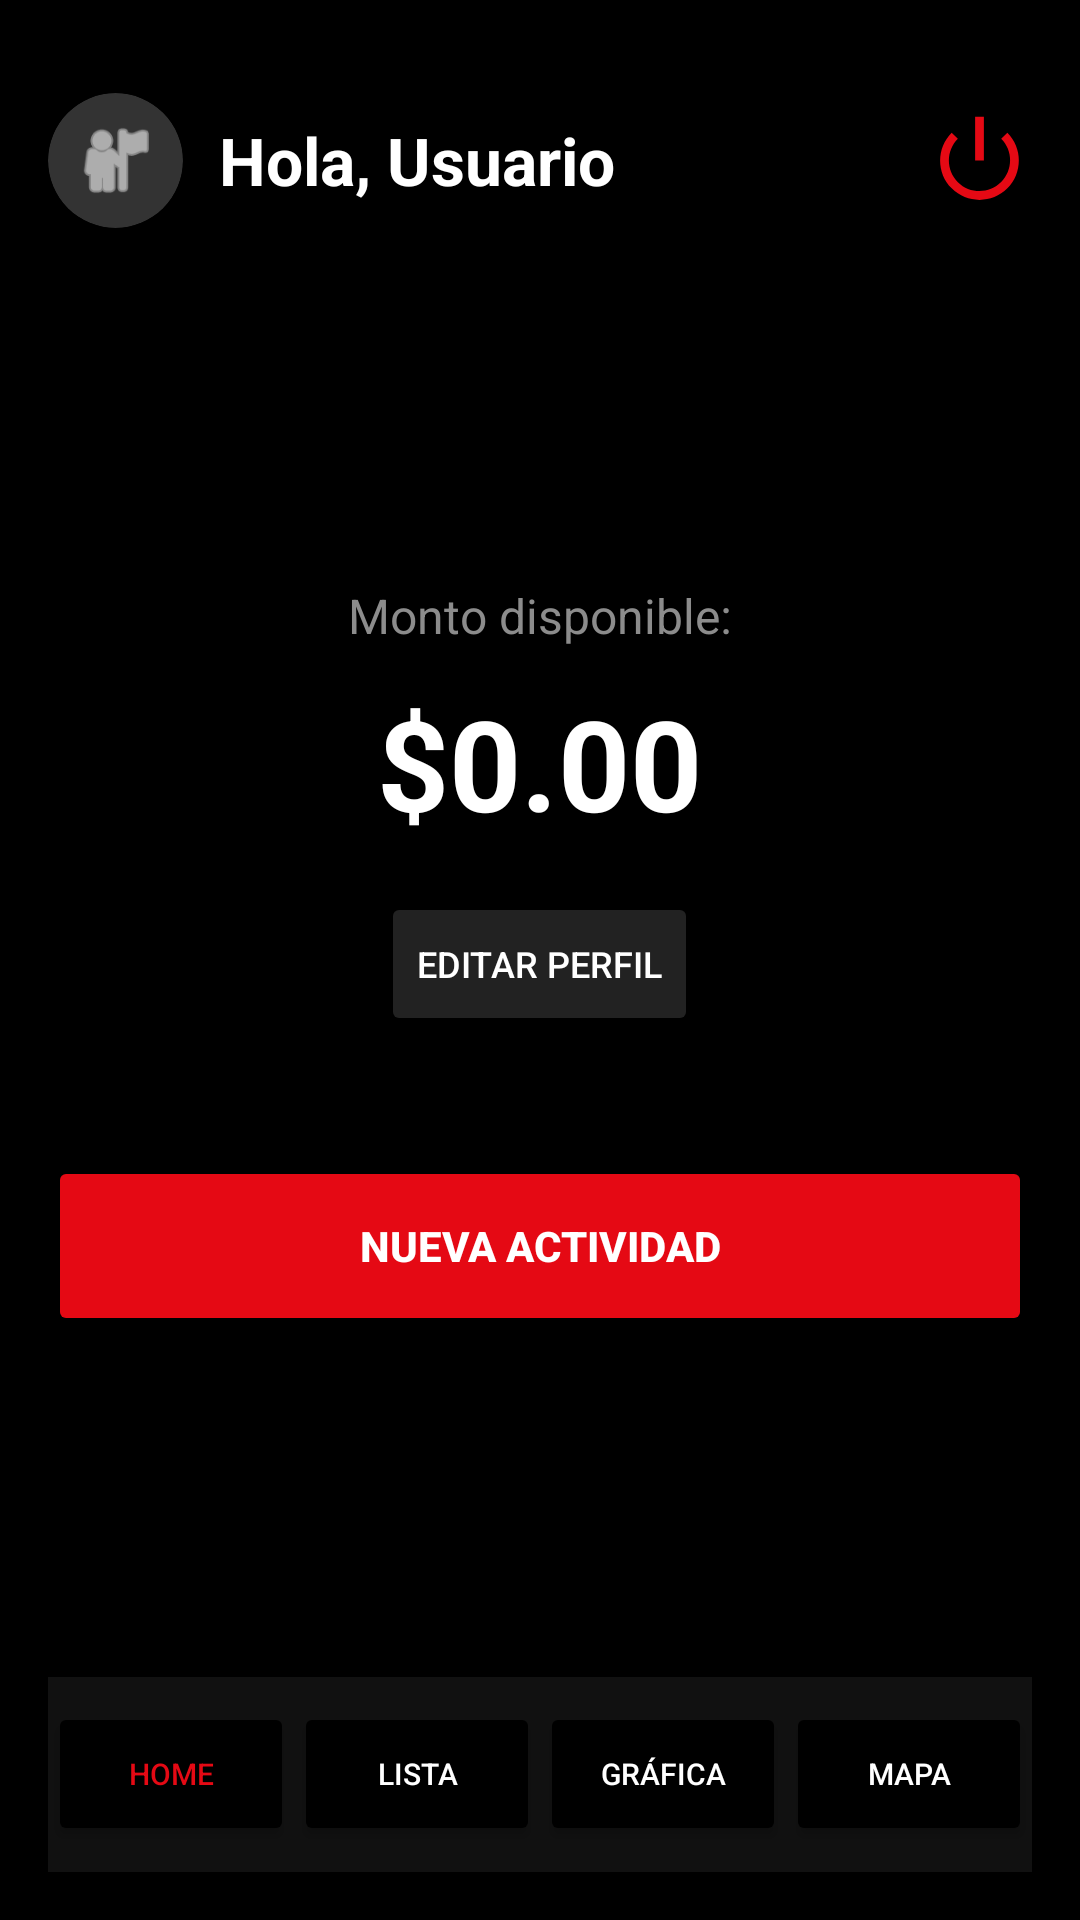

Named icons in this screenshot (1080w x 1920h) and their centers, (x=x, y=y):
Icono Usuario: (x=115, y=160)
Salir: (x=979, y=158)
